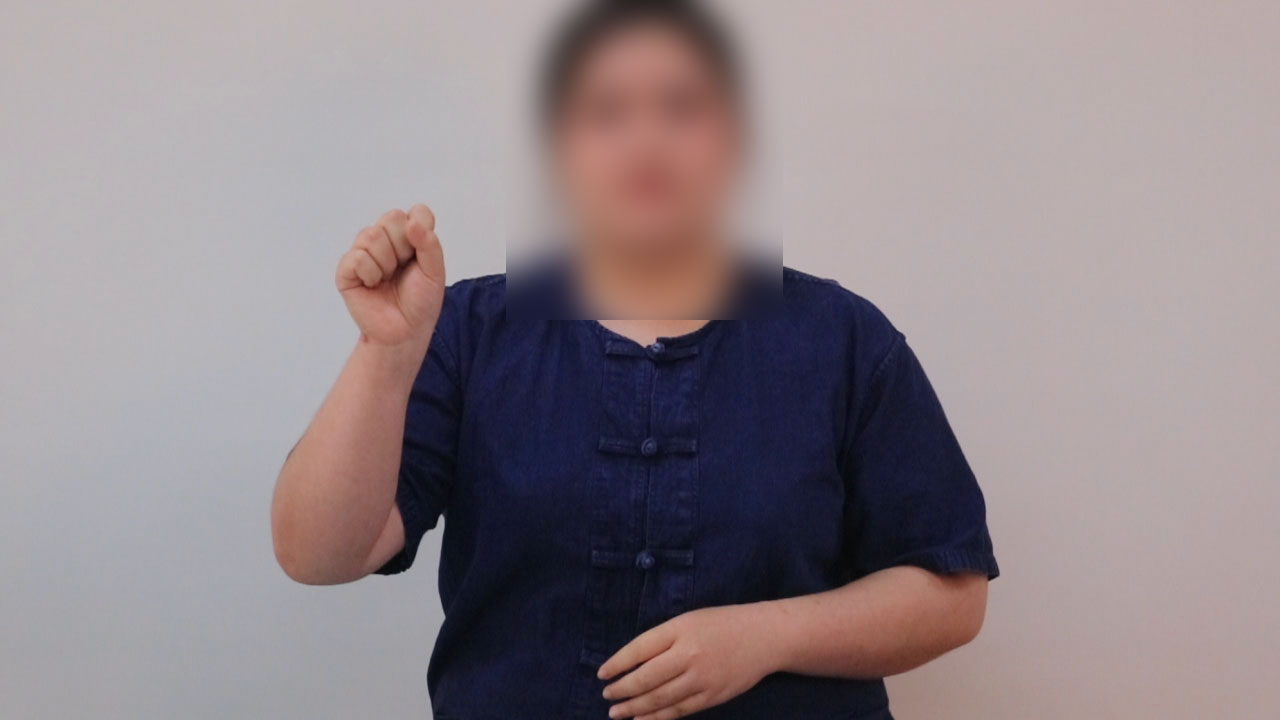sor: (325, 185, 459, 348)
